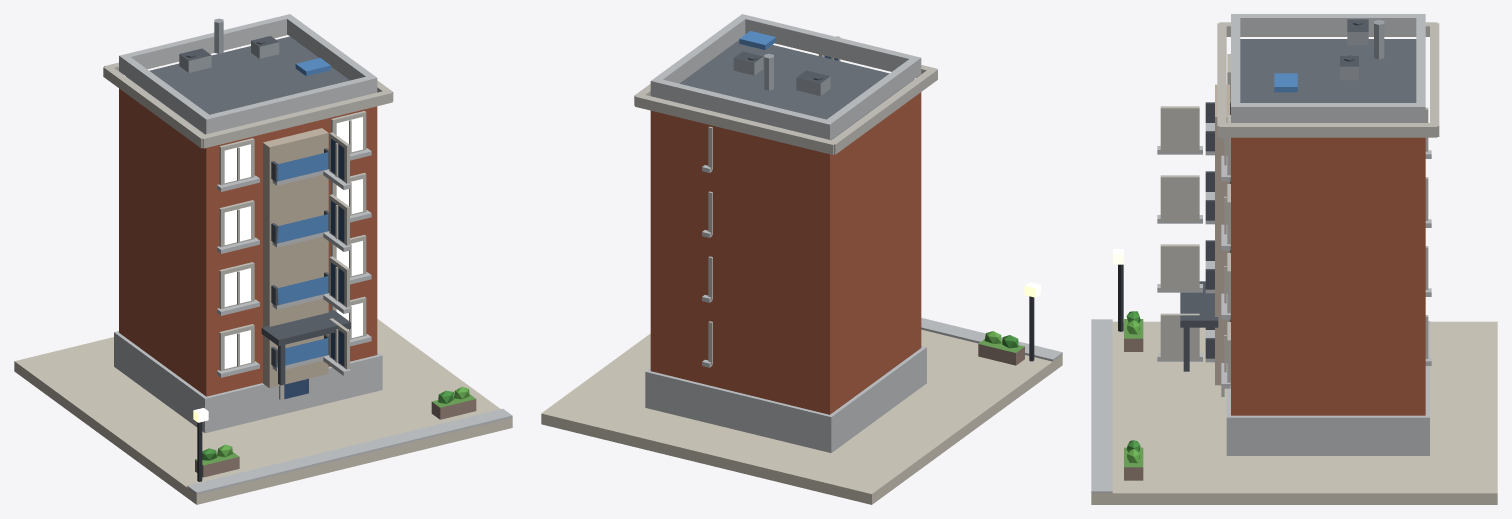
The picture shows the model from 3 angles, left to right: view 1: azimuth 30°, elevation 25°; view 2: azimuth 150°, elevation 25°; view 3: azimuth 270°, elevation 25°; orthographic projection. The views are drawn at different scales.
Visible parts, largest first — view 1: b05_v2; view 2: b05_v2; view 3: b05_v2.
Part boxes in pixels (box(x1,y1,x2,y2)): b05_v2: box(14, 14, 512, 504); b05_v2: box(541, 14, 1062, 504); b05_v2: box(1091, 14, 1497, 504).
Bounding box in the file's own units: 0.96 × 1.02 × 0.96.
